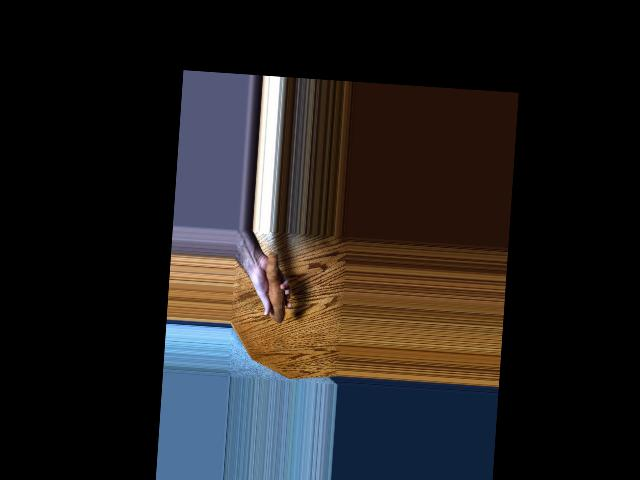sweet_potato: (256, 245, 290, 324)
